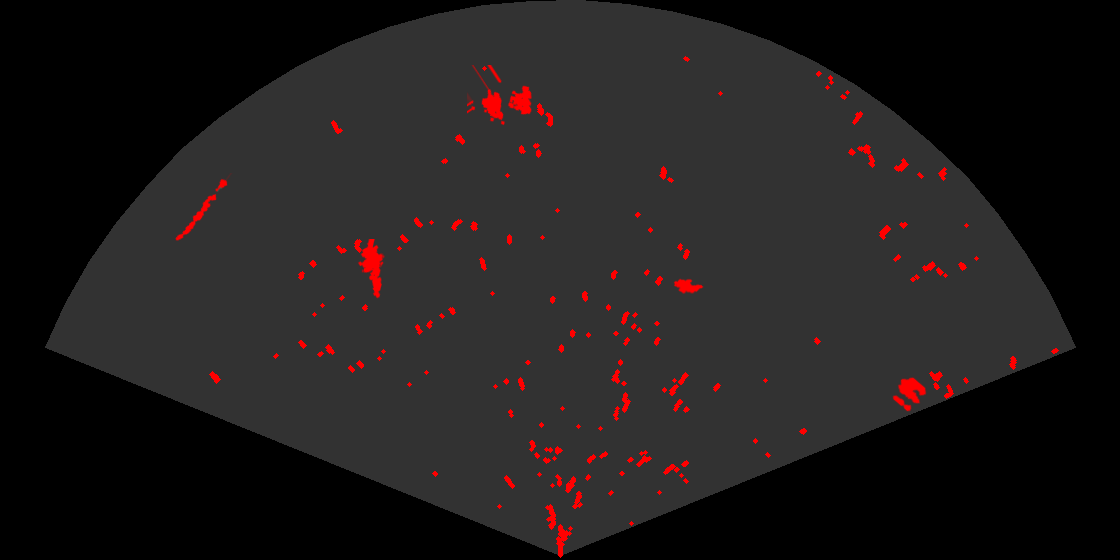AUV: (360, 251, 386, 276), (672, 277, 704, 294)
ball: (891, 376, 928, 413)
cage: (467, 65, 534, 127)
chain: (174, 173, 234, 242)
frogman: (356, 239, 384, 300)
